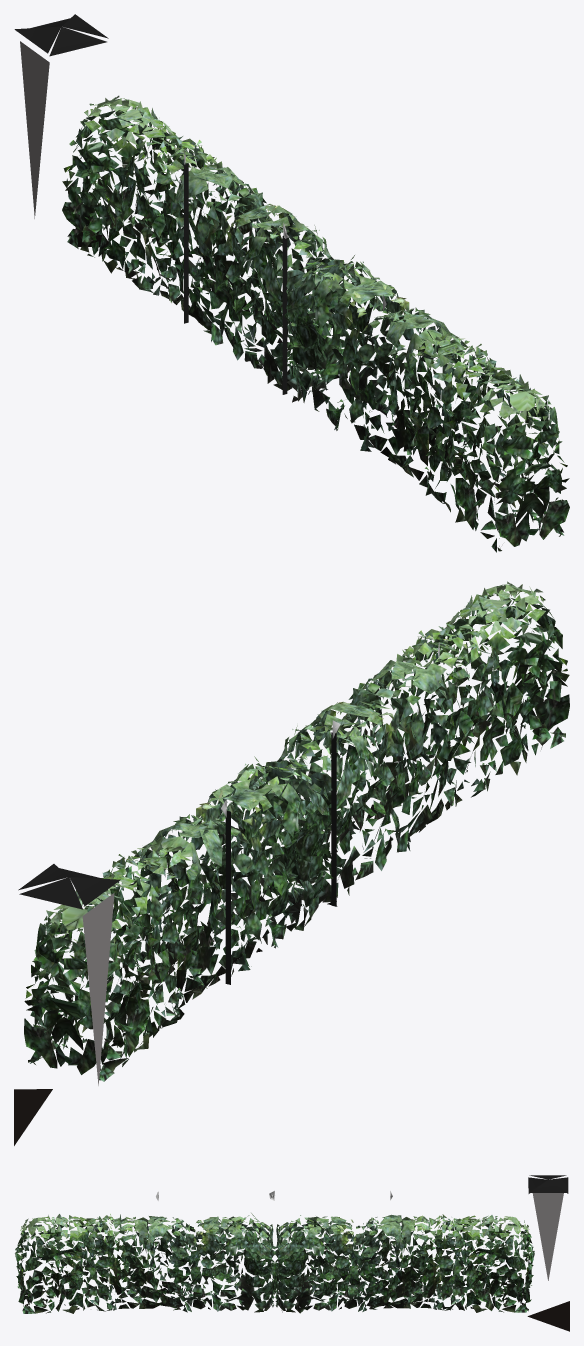
File: hedge_scan.glb
3 views of the same model, one above another, from view 1: azimuth 30°, elevation 25°; view 2: azimuth 150°, elevation 25°; view 3: azimuth 270°, elevation 25° (orthographic). The views are drawn at different scales.
Parts seen in each view (by area): view 1: LONG skinny 1 mesh hedge_model_0, LONG skinny 1 mesh hedge_model_0.001, LONG skinny 1 mesh hedge_MET_0, LONG skinny 1 mesh hedge_dom creame_0, LONG skinny 1 mesh hedge_model_0.002; view 2: LONG skinny 1 mesh hedge_model_0, LONG skinny 1 mesh hedge_model_0.001, LONG skinny 1 mesh hedge_MET_0, LONG skinny 1 mesh hedge_dom creame_0, LONG skinny 1 mesh hedge_dom GRAY_0, LONG skinny 1 mesh hedge_model_0.002; view 3: LONG skinny 1 mesh hedge_model_0.001, LONG skinny 1 mesh hedge_model_0, LONG skinny 1 mesh hedge_dom creame_0, LONG skinny 1 mesh hedge_MET_0, LONG skinny 1 mesh hedge_dom GRAY_0.
Boxes of the visible parts, box(x1,y1,x2,y2) form: LONG skinny 1 mesh hedge_model_0: box(62, 98, 569, 552); LONG skinny 1 mesh hedge_model_0.001: box(66, 95, 564, 551); LONG skinny 1 mesh hedge_MET_0: box(14, 14, 287, 394); LONG skinny 1 mesh hedge_dom creame_0: box(20, 41, 49, 218); LONG skinny 1 mesh hedge_model_0.002: box(65, 178, 261, 313); LONG skinny 1 mesh hedge_model_0: box(39, 584, 565, 1080); LONG skinny 1 mesh hedge_model_0.001: box(24, 581, 569, 1081); LONG skinny 1 mesh hedge_MET_0: box(18, 732, 336, 984); LONG skinny 1 mesh hedge_dom creame_0: box(82, 892, 114, 1085); LONG skinny 1 mesh hedge_dom GRAY_0: box(14, 1089, 52, 1145); LONG skinny 1 mesh hedge_model_0.002: box(103, 859, 299, 1023); LONG skinny 1 mesh hedge_model_0.001: box(15, 1213, 534, 1313); LONG skinny 1 mesh hedge_model_0: box(15, 1214, 534, 1311); LONG skinny 1 mesh hedge_dom creame_0: box(532, 1193, 563, 1280); LONG skinny 1 mesh hedge_MET_0: box(528, 1175, 568, 1193); LONG skinny 1 mesh hedge_dom GRAY_0: box(527, 1301, 569, 1331).
Bounding box in the file's own units: 80.34 × 194 × 685.
Materials: 5 (1 with a texture image).
